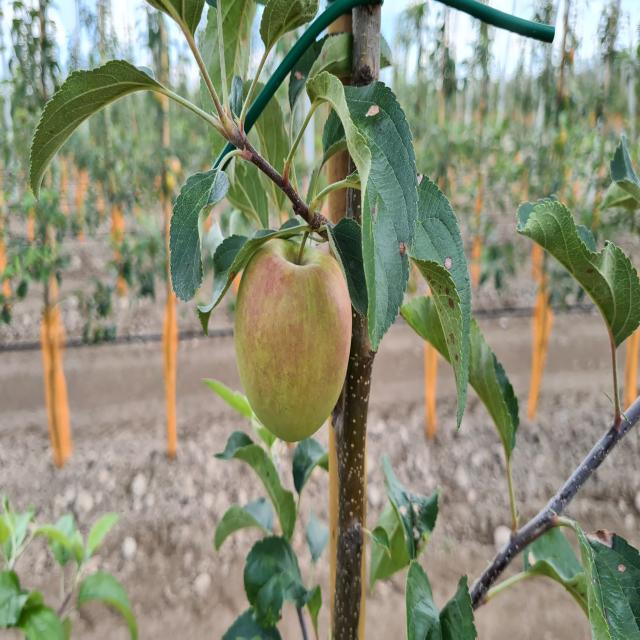Apple: (234, 240, 351, 442)
